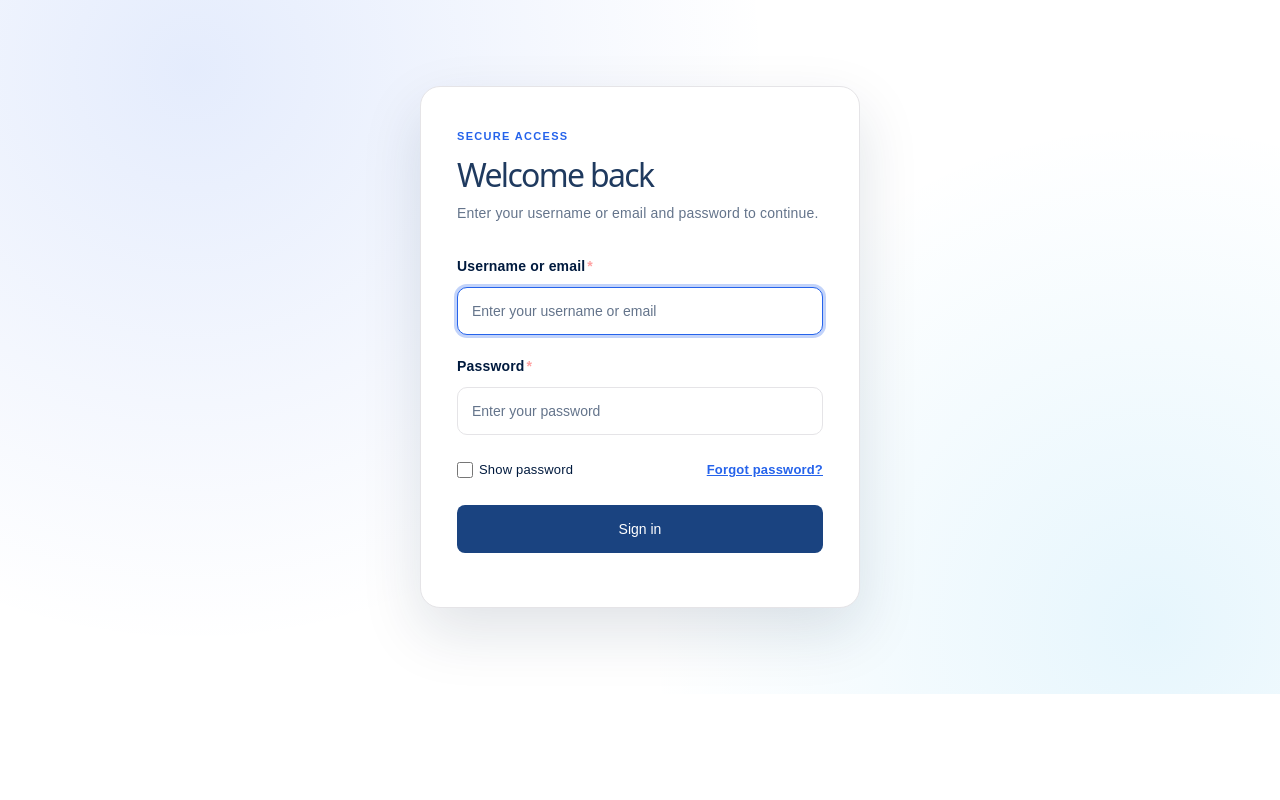
Scenario: LoginForm › shows a failed-login message without invalidating either field
Type "testuser" into the field labelled "Username or email" at (640, 311), box [457,287,823,335]
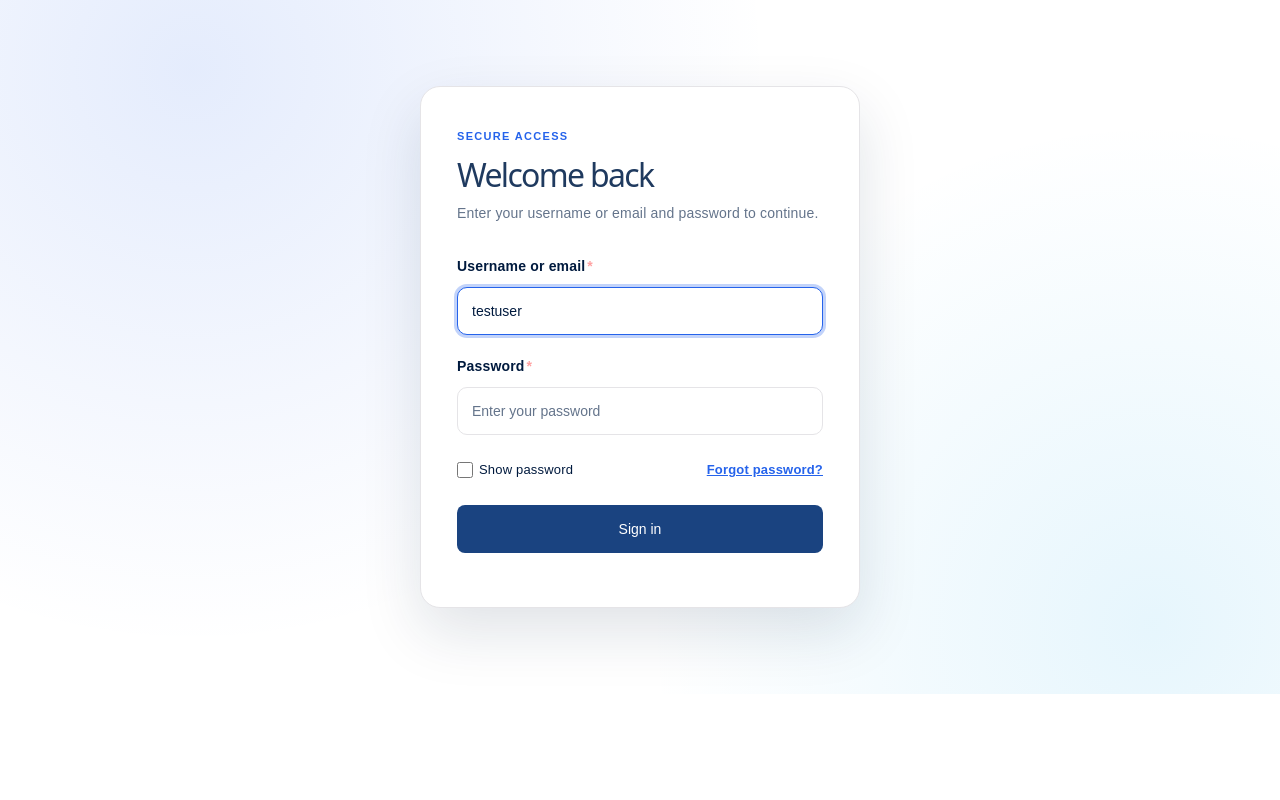
Type "wrongpassword" into the password field labelled "Password" at (640, 411), box [457,387,823,435]
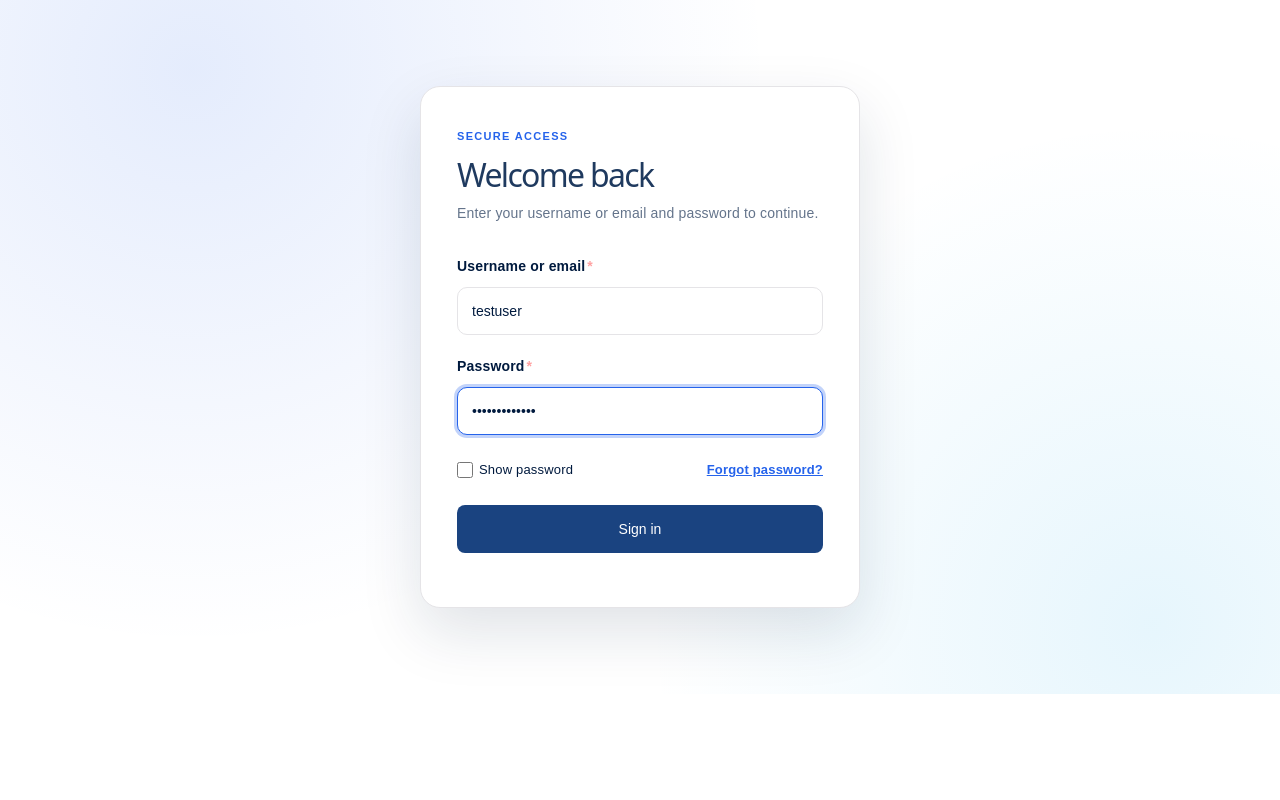
Click the button "Sign in" at (640, 529), box [457,505,823,553]
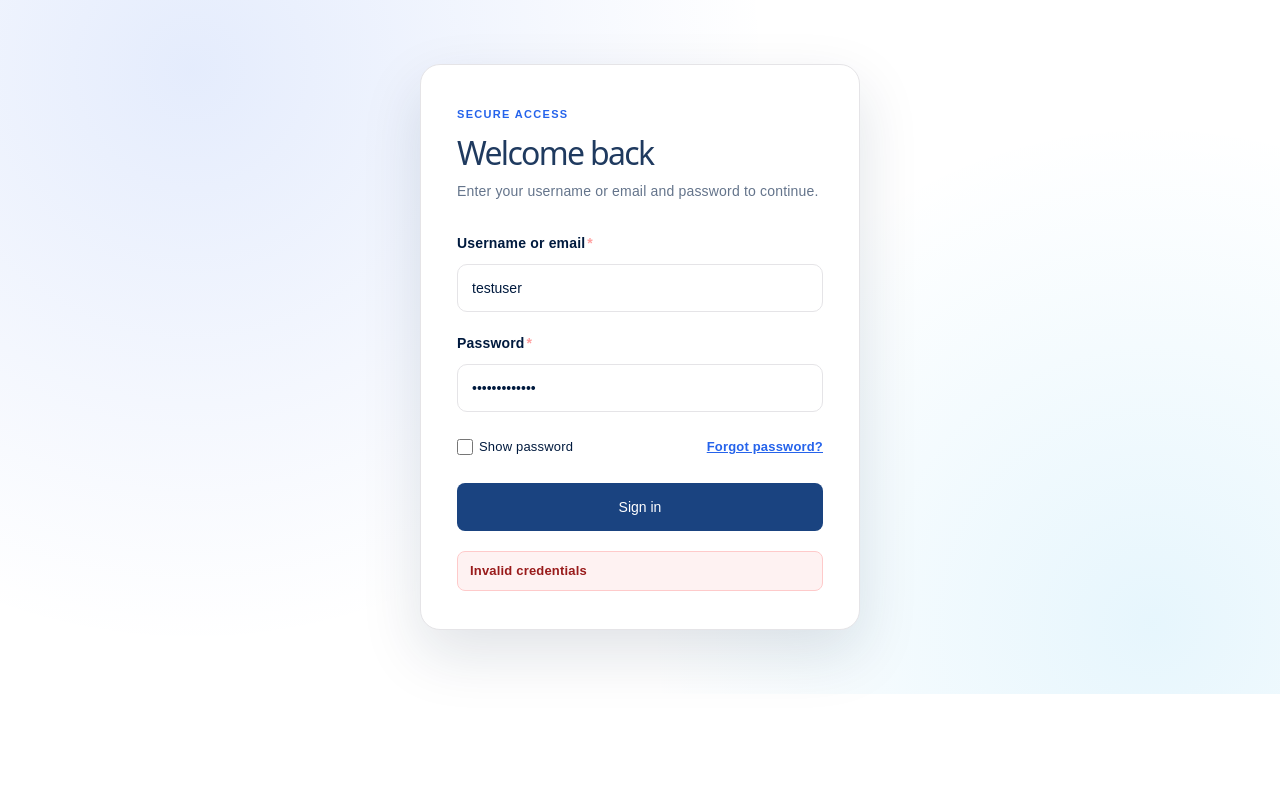
Expected: the message reads "Invalid credentials", [470,562,587,578]
